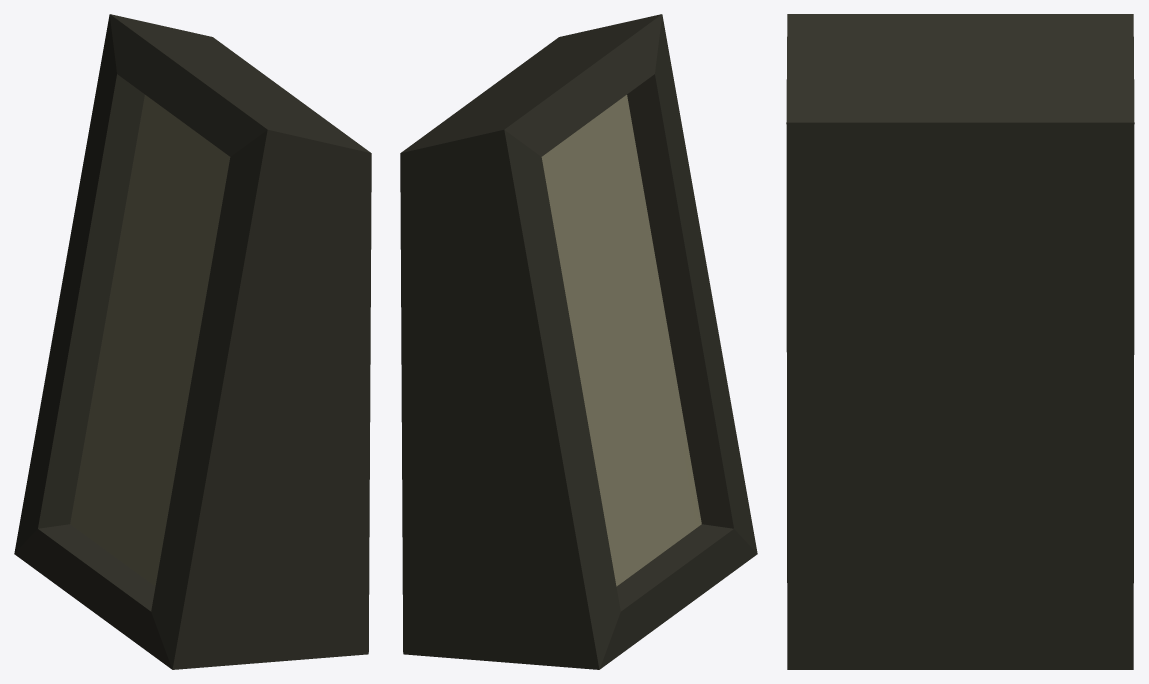
File: Model_Prop_ElevatorButton.fbx
3 renders of one model, left to right at view 1: azimuth 30°, elevation 25°; view 2: azimuth 150°, elevation 25°; view 3: azimuth 270°, elevation 25°, orthographic. The views are drawn at different scales.
Visible parts, largest first — view 1: Mesh_ButtonHighlight; view 2: Mesh_ButtonHighlight; view 3: Mesh_ButtonHighlight.
Part boxes in pixels (bbox=[...]): Mesh_ButtonHighlight: bbox=[14, 14, 371, 669]; Mesh_ButtonHighlight: bbox=[400, 14, 757, 669]; Mesh_ButtonHighlight: bbox=[786, 14, 1134, 669].
Bounding box in the file's own units: 0.5762 × 1.52 × 0.7968.
